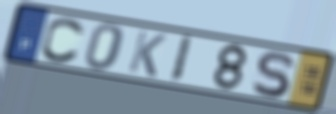0: (83, 22, 126, 72)
8: (211, 42, 252, 92)
C: (40, 16, 88, 65)
I: (167, 34, 195, 85)
K: (126, 28, 169, 79)
S: (250, 50, 296, 99)
